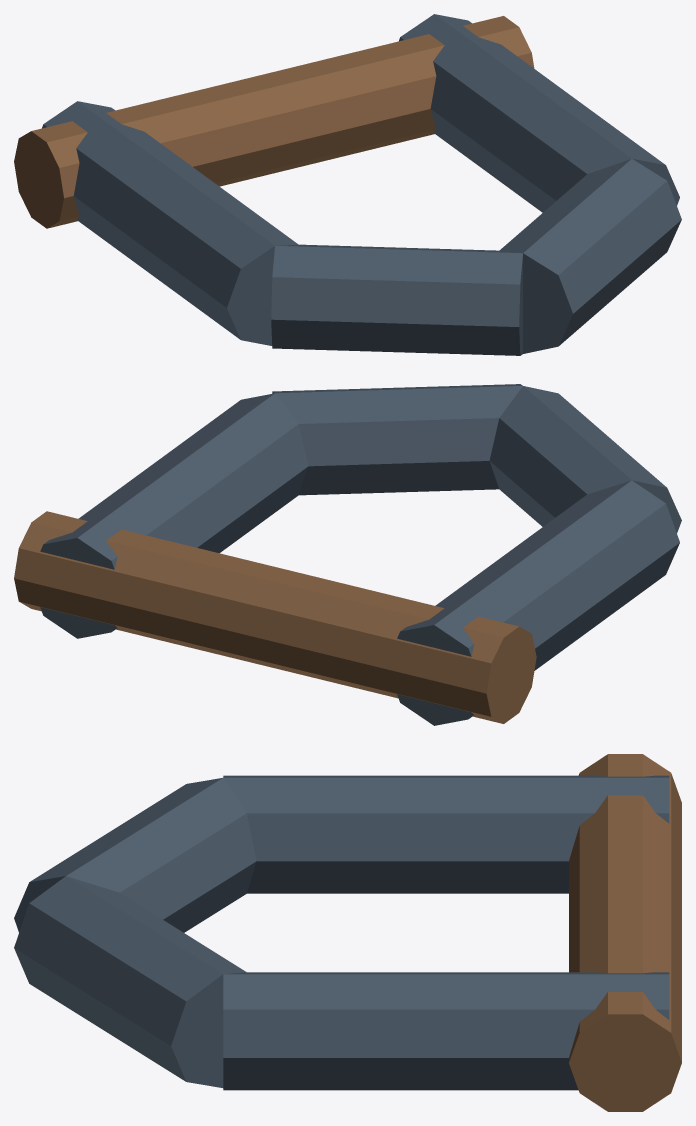
File: L-43_shackle.glb
The picture shows the model from 3 angles, top to bottom: view 1: azimuth 30°, elevation 25°; view 2: azimuth 150°, elevation 25°; view 3: azimuth 270°, elevation 25°; orthographic projection. The views are drawn at different scales.
Parts seen in each view (by area): view 1: L-43_shackle; view 2: L-43_shackle; view 3: L-43_shackle.
Boxes of the visible parts, x1,y1,x2,y2 form: L-43_shackle: (14, 14, 681, 355); L-43_shackle: (14, 384, 681, 725); L-43_shackle: (14, 754, 681, 1111).
Bounding box in the file's own units: 0.098 × 0.02 × 0.1063.
